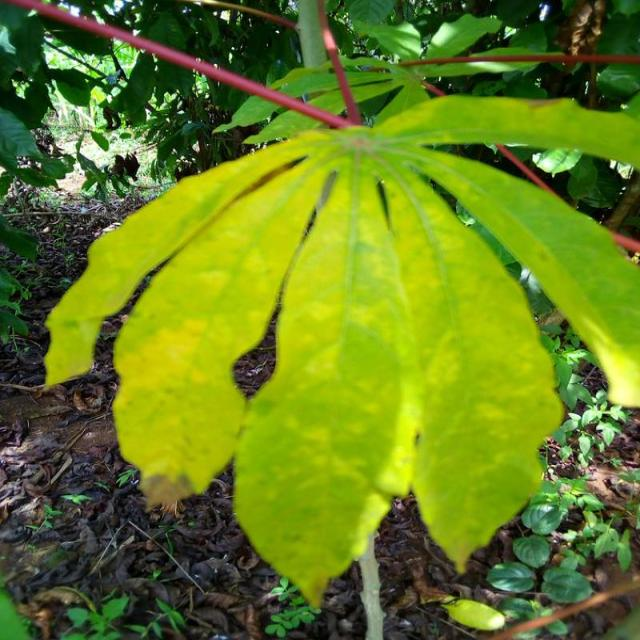cassava leaf: (40, 15, 638, 618)
